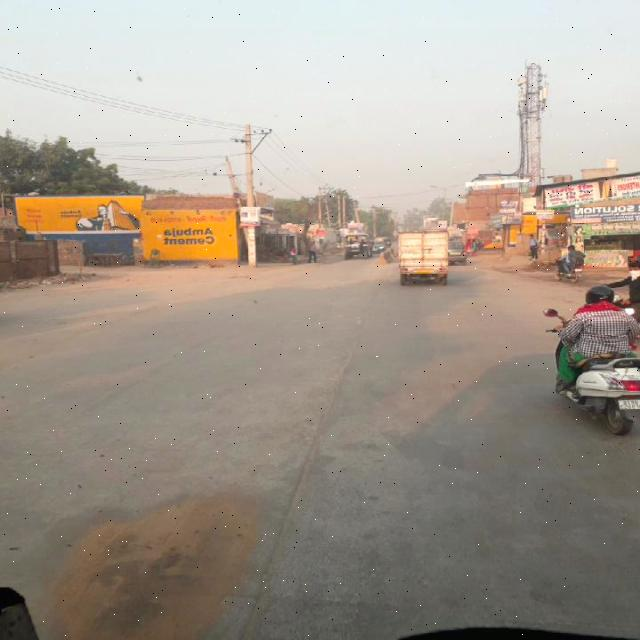D01: (250, 300, 372, 626)
